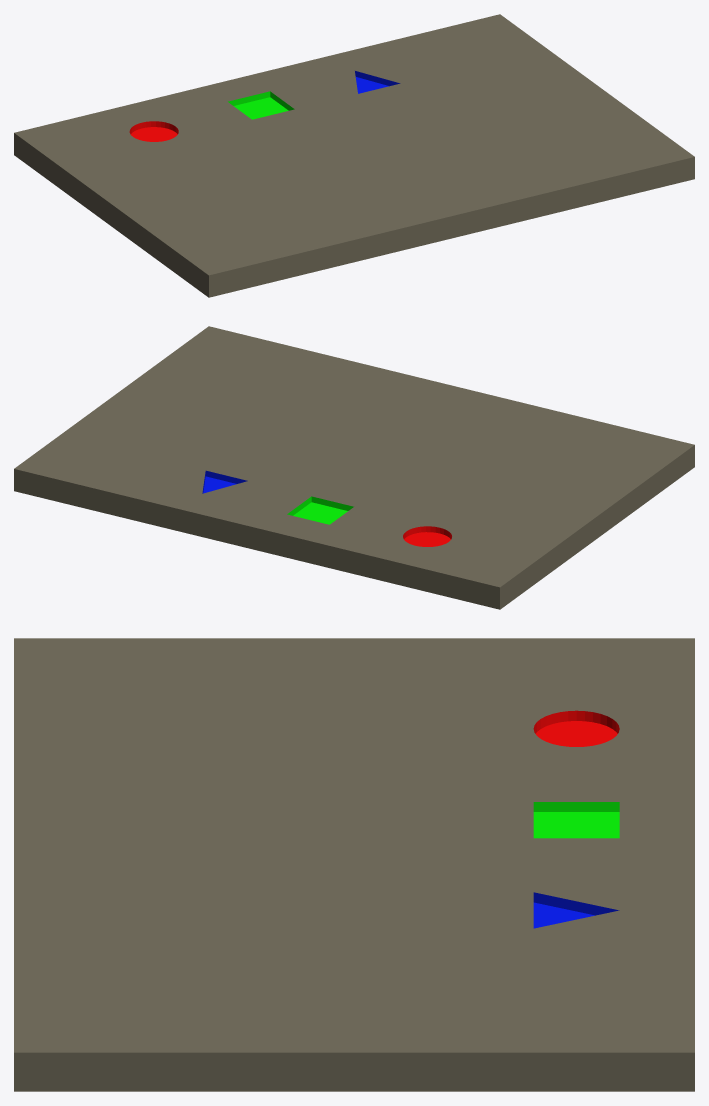
The model's file is ground.gltf.
3 views of the same model, one above another, from view 1: azimuth 30°, elevation 25°; view 2: azimuth 150°, elevation 25°; view 3: azimuth 270°, elevation 25° (orthographic). The views are drawn at different scales.
Parts seen in each view (by area): view 1: Ground; view 2: Ground; view 3: Ground.
Part boxes in pixels (x1=…): Ground: x1=14, y1=14, x2=694, y2=297; Ground: x1=14, y1=326, x2=694, y2=609; Ground: x1=14, y1=638, x2=694, y2=1091.
Bounding box in the file's own units: 22.78 × 1 × 15.82.
Materials: 1 (1 with a texture image).
